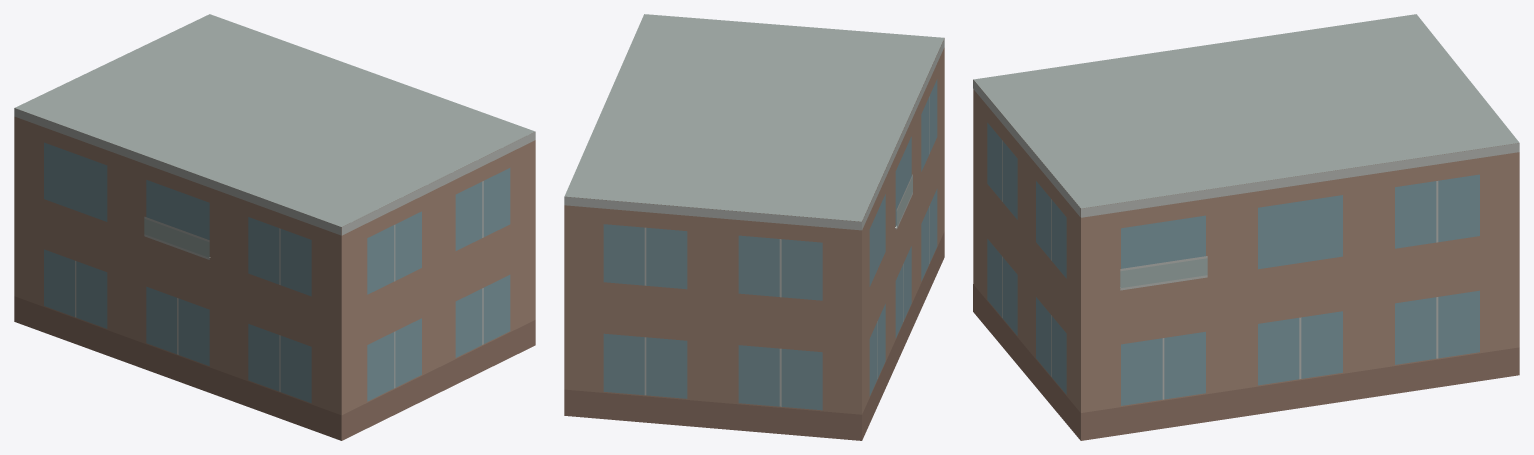
Rendered from survey-upis-33031628.glb.
3 renders of one model, left to right at view 1: azimuth 30°, elevation 25°; view 2: azimuth 150°, elevation 25°; view 3: azimuth 270°, elevation 25°, orthographic. The views are drawn at different scales.
Parts seen in each view (by area): view 1: survey-upis-33031628.tmp; view 2: survey-upis-33031628.tmp; view 3: survey-upis-33031628.tmp.
Boxes of the visible parts, x1=… form: survey-upis-33031628.tmp: x1=14, y1=14, x2=535, y2=440; survey-upis-33031628.tmp: x1=564, y1=14, x2=944, y2=440; survey-upis-33031628.tmp: x1=973, y1=14, x2=1519, y2=440.
Bounding box in the file's own units: 10.96 × 6.1 × 13.01.
